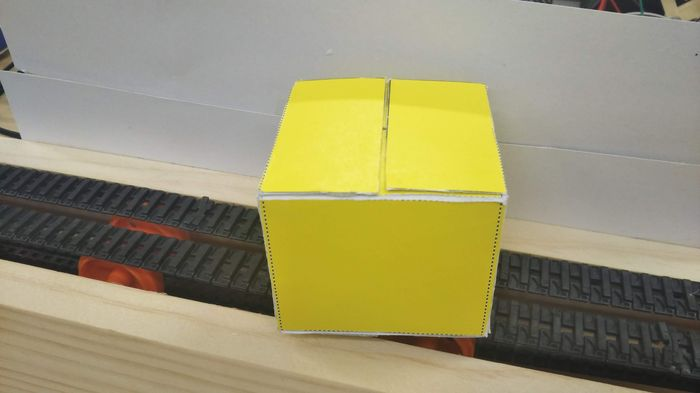box4: (253, 69, 510, 349)
